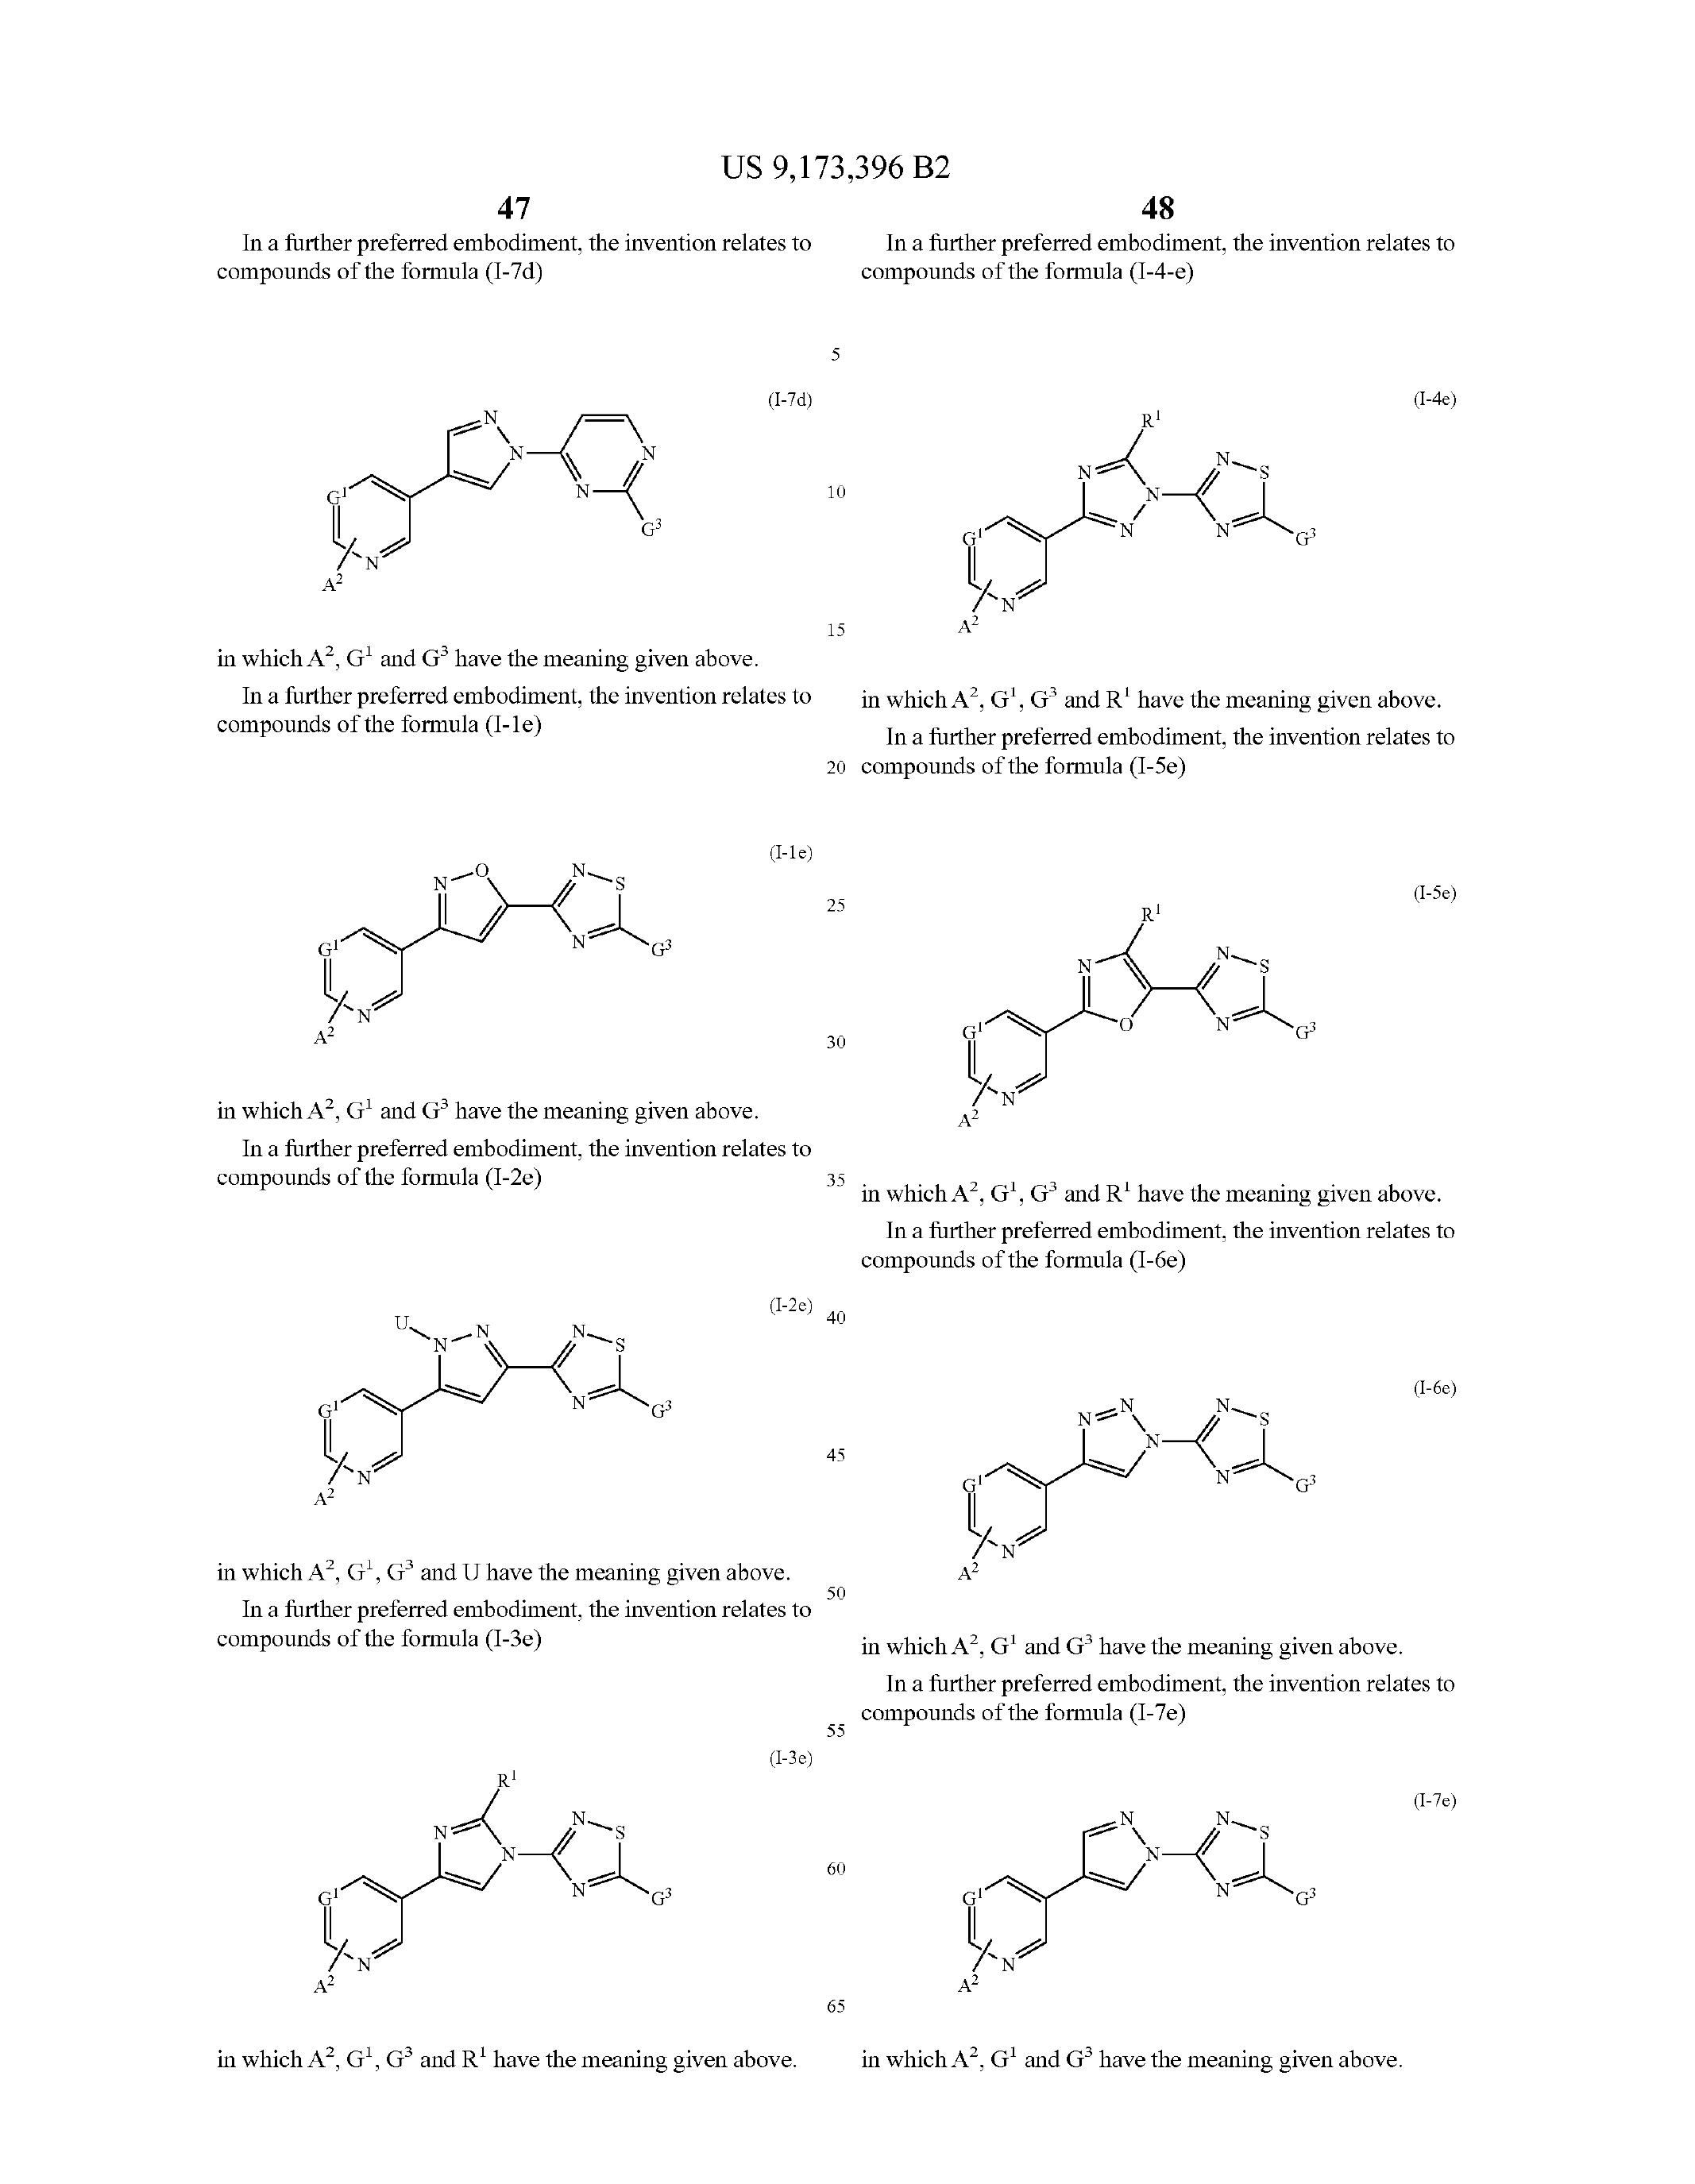substitutes: (895, 1755, 1612, 2012)
